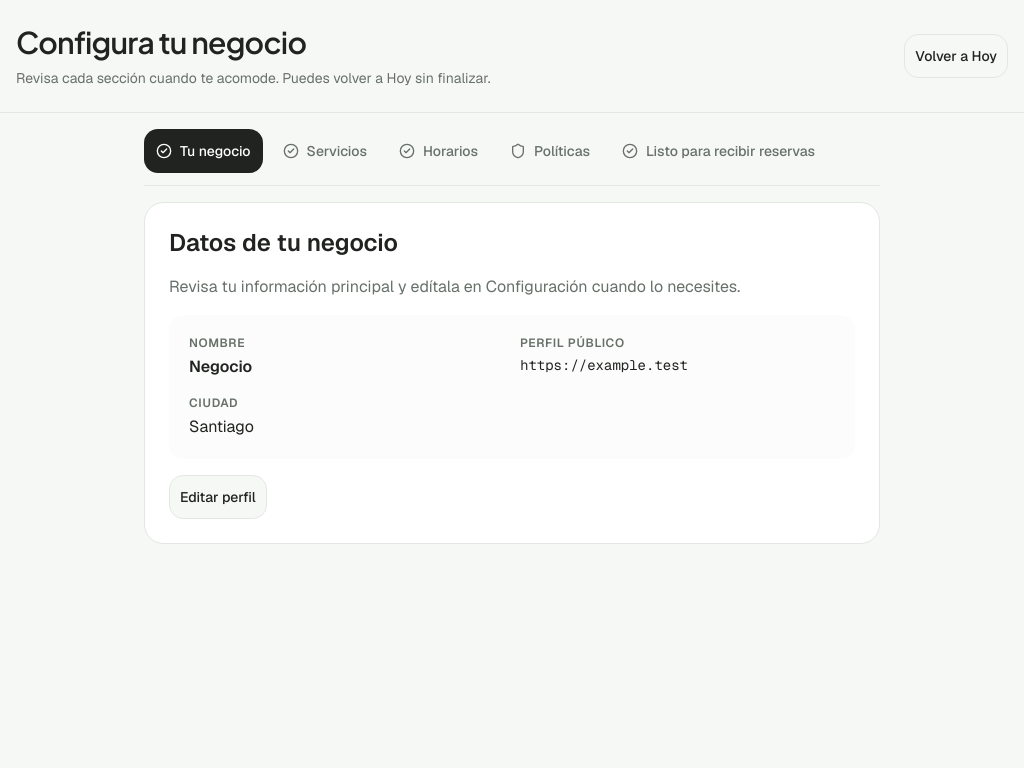
it: initial setup navigation › offers five peer tabs and opens Horarios directly without next/back gates
Click the tab "Horarios". click: (438,151)
box: x1=387 y1=129 x2=490 y2=173
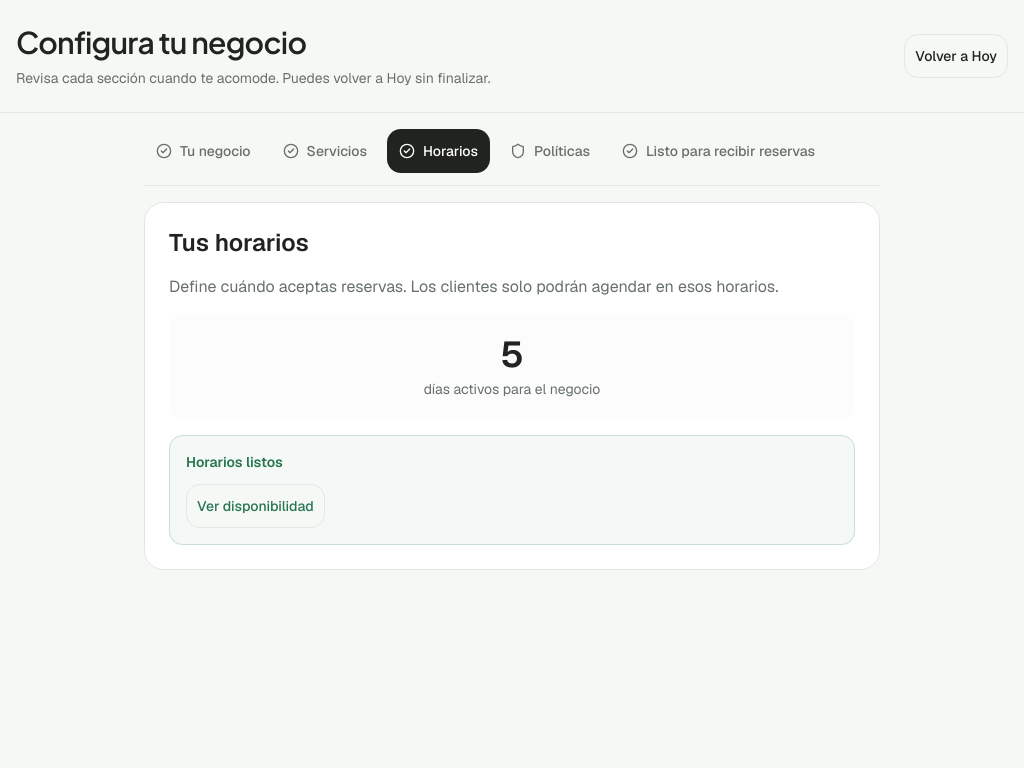
Result: the panel shows "Define cuándo aceptas reservas" at x1=169 y1=276 x2=778 y2=297
